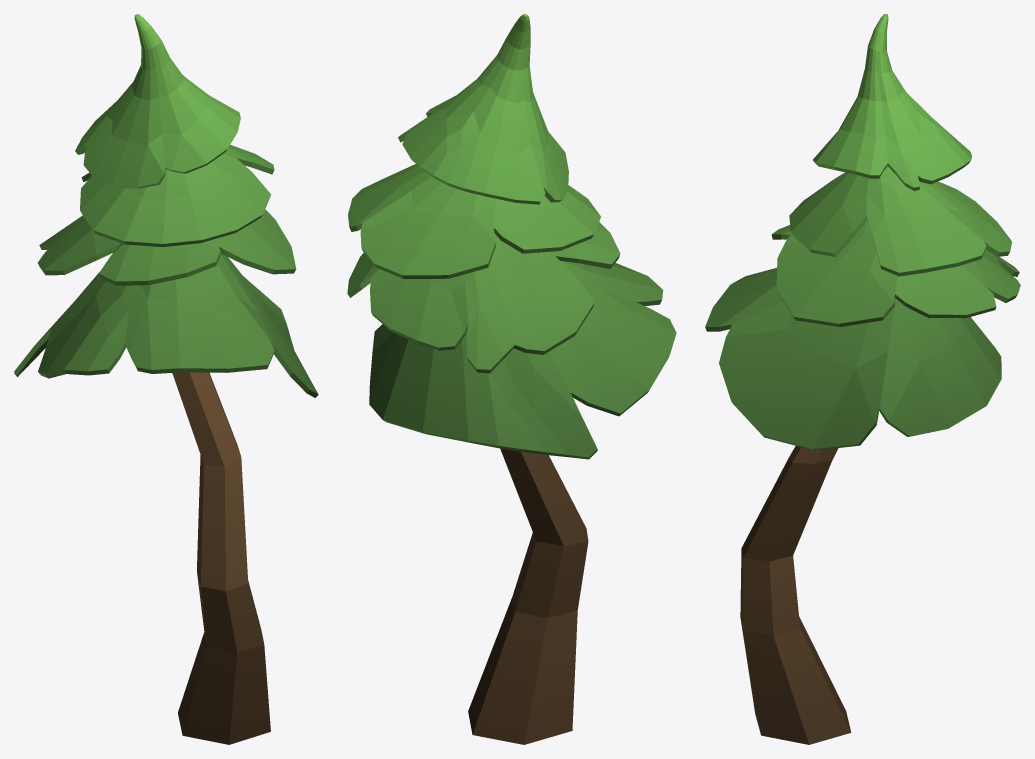
File: PineTree4.fbx
The picture shows the model from 3 angles, left to right: view 1: azimuth 30°, elevation 25°; view 2: azimuth 150°, elevation 25°; view 3: azimuth 270°, elevation 25°; orthographic projection. The views are drawn at different scales.
Parts seen in each view (by area): view 1: PineTree_4_Cylinder.027; view 2: PineTree_4_Cylinder.027; view 3: PineTree_4_Cylinder.027.
Boxes of the visible parts, x1,y1,x2,y2 form: PineTree_4_Cylinder.027: (14,14,318,744); PineTree_4_Cylinder.027: (347,14,676,744); PineTree_4_Cylinder.027: (705,14,1020,744).
Size of the model in its own units: 125 by 334 by 139.
